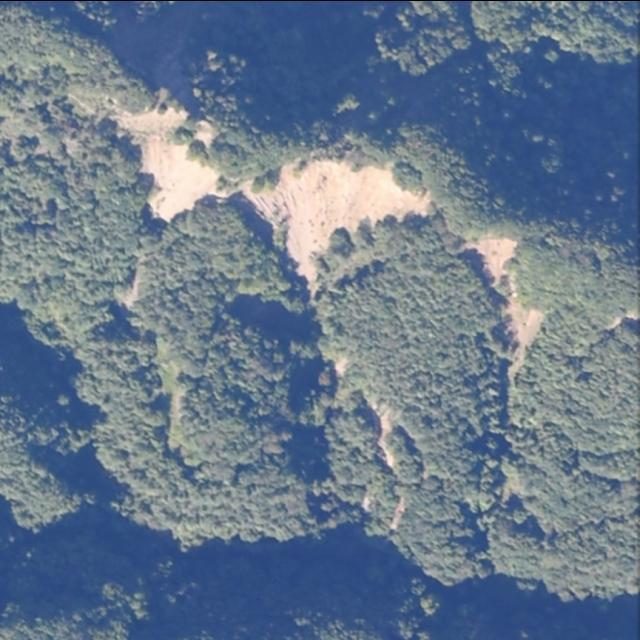landslide: (110, 103, 431, 293), (467, 235, 543, 359)
